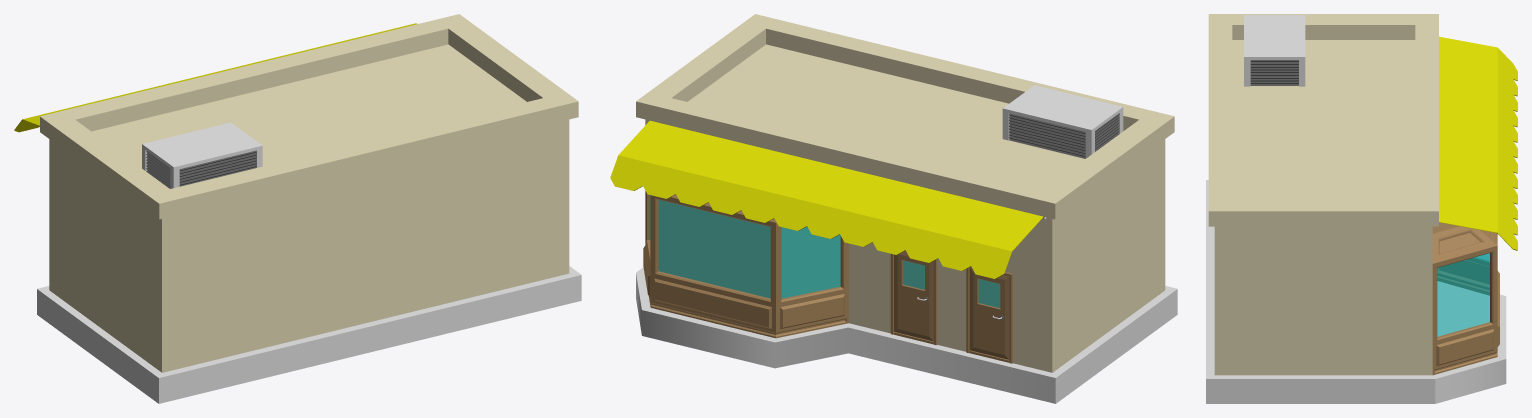
The model's file is cry_shop_01_dylan.fbx.
The picture shows the model from 3 angles, left to right: view 1: azimuth 30°, elevation 25°; view 2: azimuth 150°, elevation 25°; view 3: azimuth 270°, elevation 25°; orthographic projection. The views are drawn at different scales.
Visible parts, largest first — view 1: pCube59; view 2: pCube59; view 3: pCube59.
Boxes of the visible parts, bbox=[...] form: pCube59: bbox=[14, 14, 581, 403]; pCube59: bbox=[610, 14, 1177, 403]; pCube59: bbox=[1206, 14, 1517, 403].
Bounding box in the file's own units: 1084 × 524 × 718.
